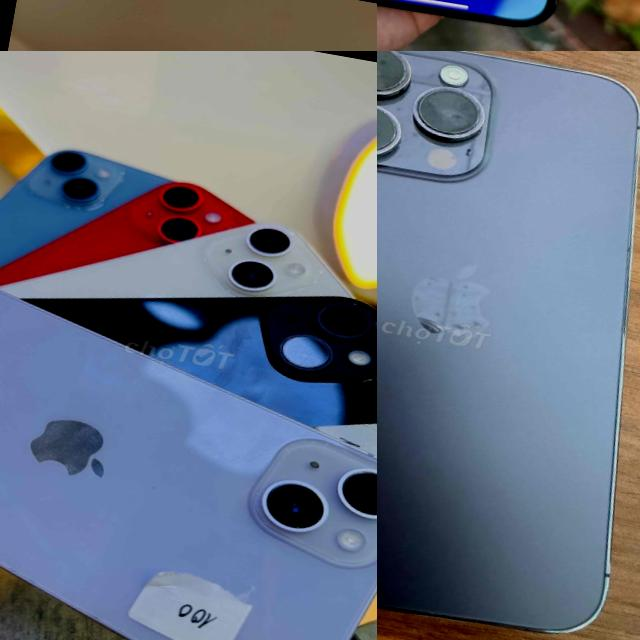scratch: (382, 242, 510, 366), (405, 80, 488, 150), (377, 51, 421, 100), (377, 86, 403, 165)
